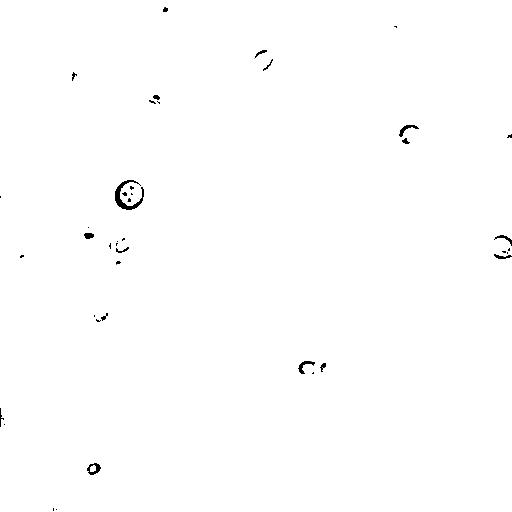micro-algae: (471, 15, 511, 95), (384, 40, 435, 91), (12, 290, 53, 330), (61, 61, 93, 97), (311, 353, 344, 386), (112, 179, 145, 211), (76, 217, 109, 249), (138, 232, 167, 260), (489, 233, 511, 261), (108, 233, 133, 257), (252, 47, 275, 73), (109, 254, 135, 277), (383, 21, 411, 41), (1, 403, 22, 429), (397, 123, 422, 144), (15, 251, 40, 271), (41, 498, 76, 512), (91, 301, 110, 323), (296, 359, 320, 375), (153, 1, 173, 18), (499, 129, 512, 154), (85, 461, 103, 476)
